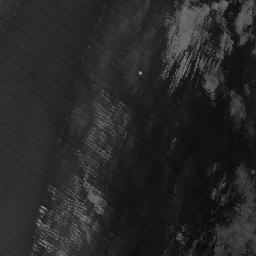Target: (137, 70, 144, 75)
